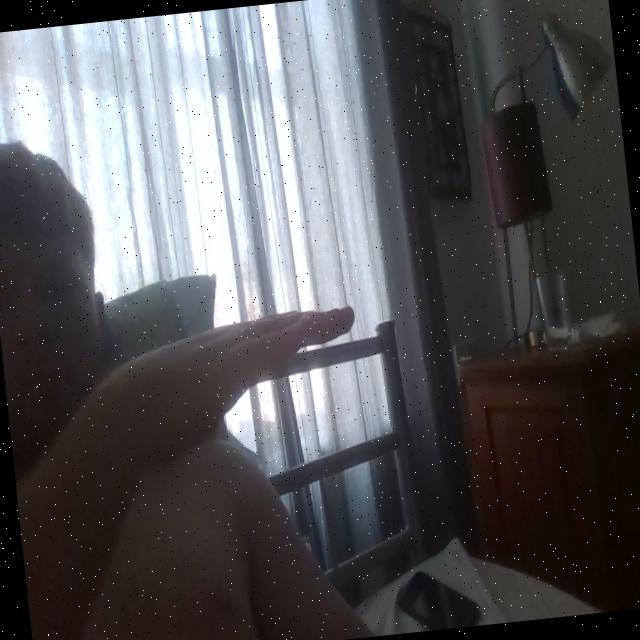papper: (94, 296, 373, 503)
